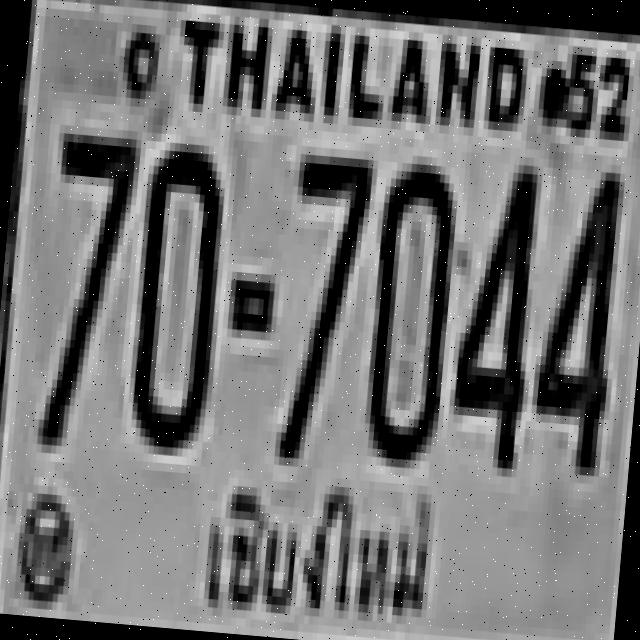0: (357, 152, 456, 462), (124, 136, 223, 445)
4: (444, 156, 538, 464), (526, 160, 620, 468)
7: (33, 124, 137, 442), (270, 145, 368, 462), (278, 145, 368, 356)
ChiangMai: (184, 468, 449, 640)
